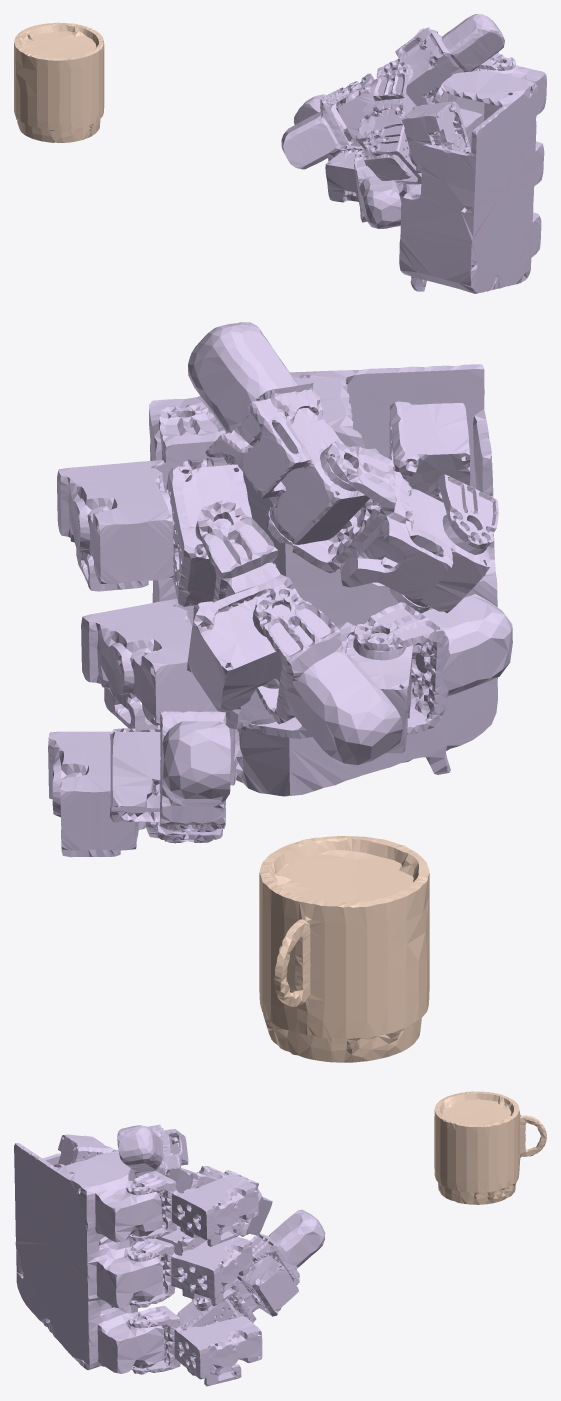
The picture shows the model from 3 angles, top to bottom: view 1: azimuth 30°, elevation 25°; view 2: azimuth 150°, elevation 25°; view 3: azimuth 270°, elevation 25°; orthographic projection. The views are drawn at different scales.
Visible parts, largest first — view 1: LEAP_hand, world; view 2: LEAP_hand, world; view 3: LEAP_hand, world.
Boxes of the visible parts, x1,y1,x2,y2 form: LEAP_hand: [281, 14, 546, 293]; world: [14, 22, 104, 142]; LEAP_hand: [48, 322, 512, 857]; world: [259, 836, 429, 1062]; LEAP_hand: [14, 1124, 325, 1386]; world: [434, 1091, 546, 1204].
Size of the model in its own units: 0.2273 by 0.1588 by 0.3246.
